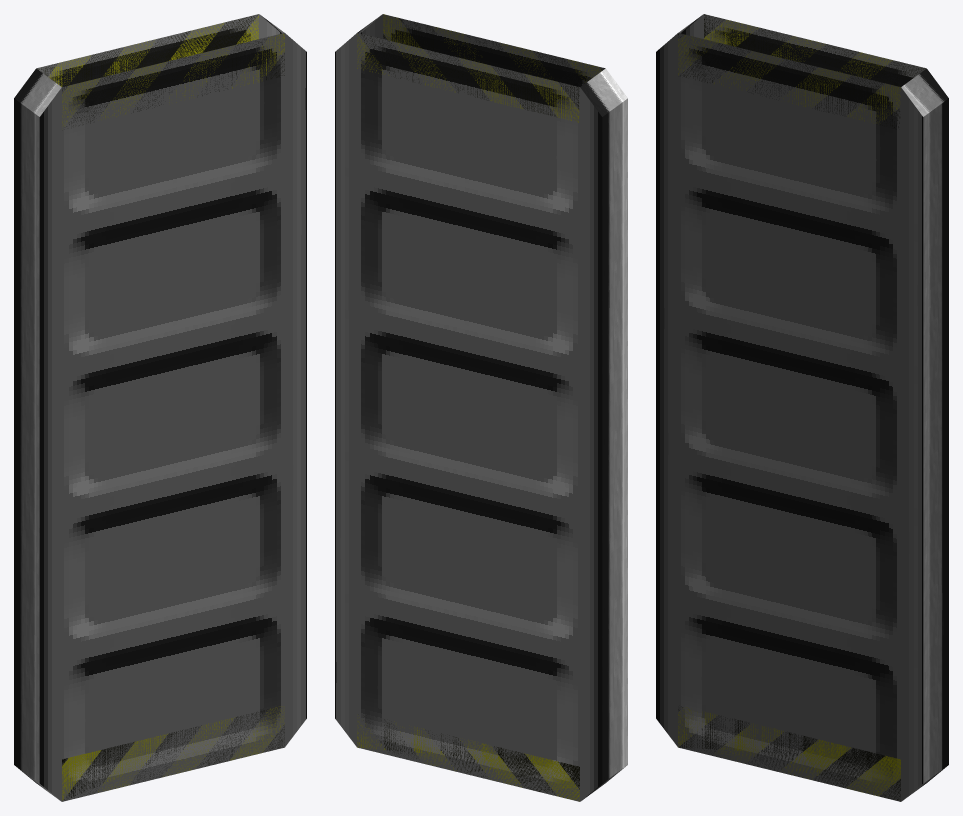
Rendered from primary_139.glb.
3 views of the same model, side by side, from view 1: azimuth 30°, elevation 25°; view 2: azimuth 150°, elevation 25°; view 3: azimuth 330°, elevation 25° (orthographic).
Parts seen in each view (by area): view 1: Object; view 2: Object; view 3: Object.
Boxes of the visible parts, box(x1,y1,x2,y2) form: Object: box(14, 14, 306, 801); Object: box(335, 14, 627, 801); Object: box(656, 14, 948, 801).
Bounding box in the file's own units: 0.9097 × 2.32 × 0.1516.
8 materials, 8 textured.
